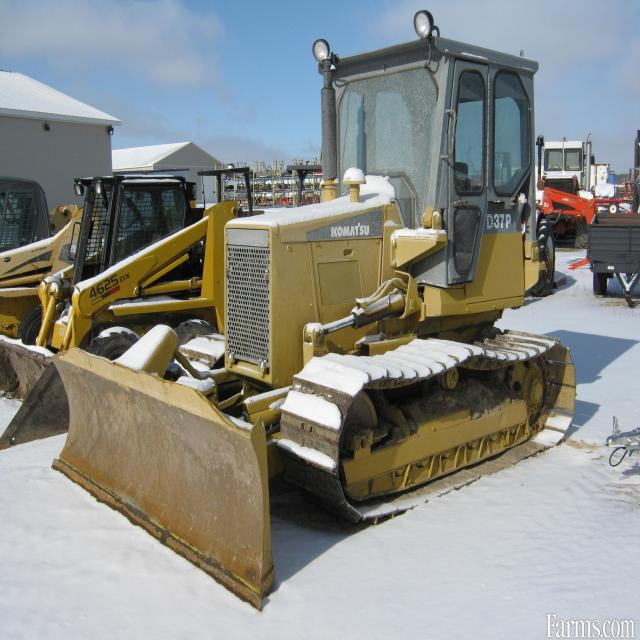Bulldozer: (65, 30, 593, 601)
